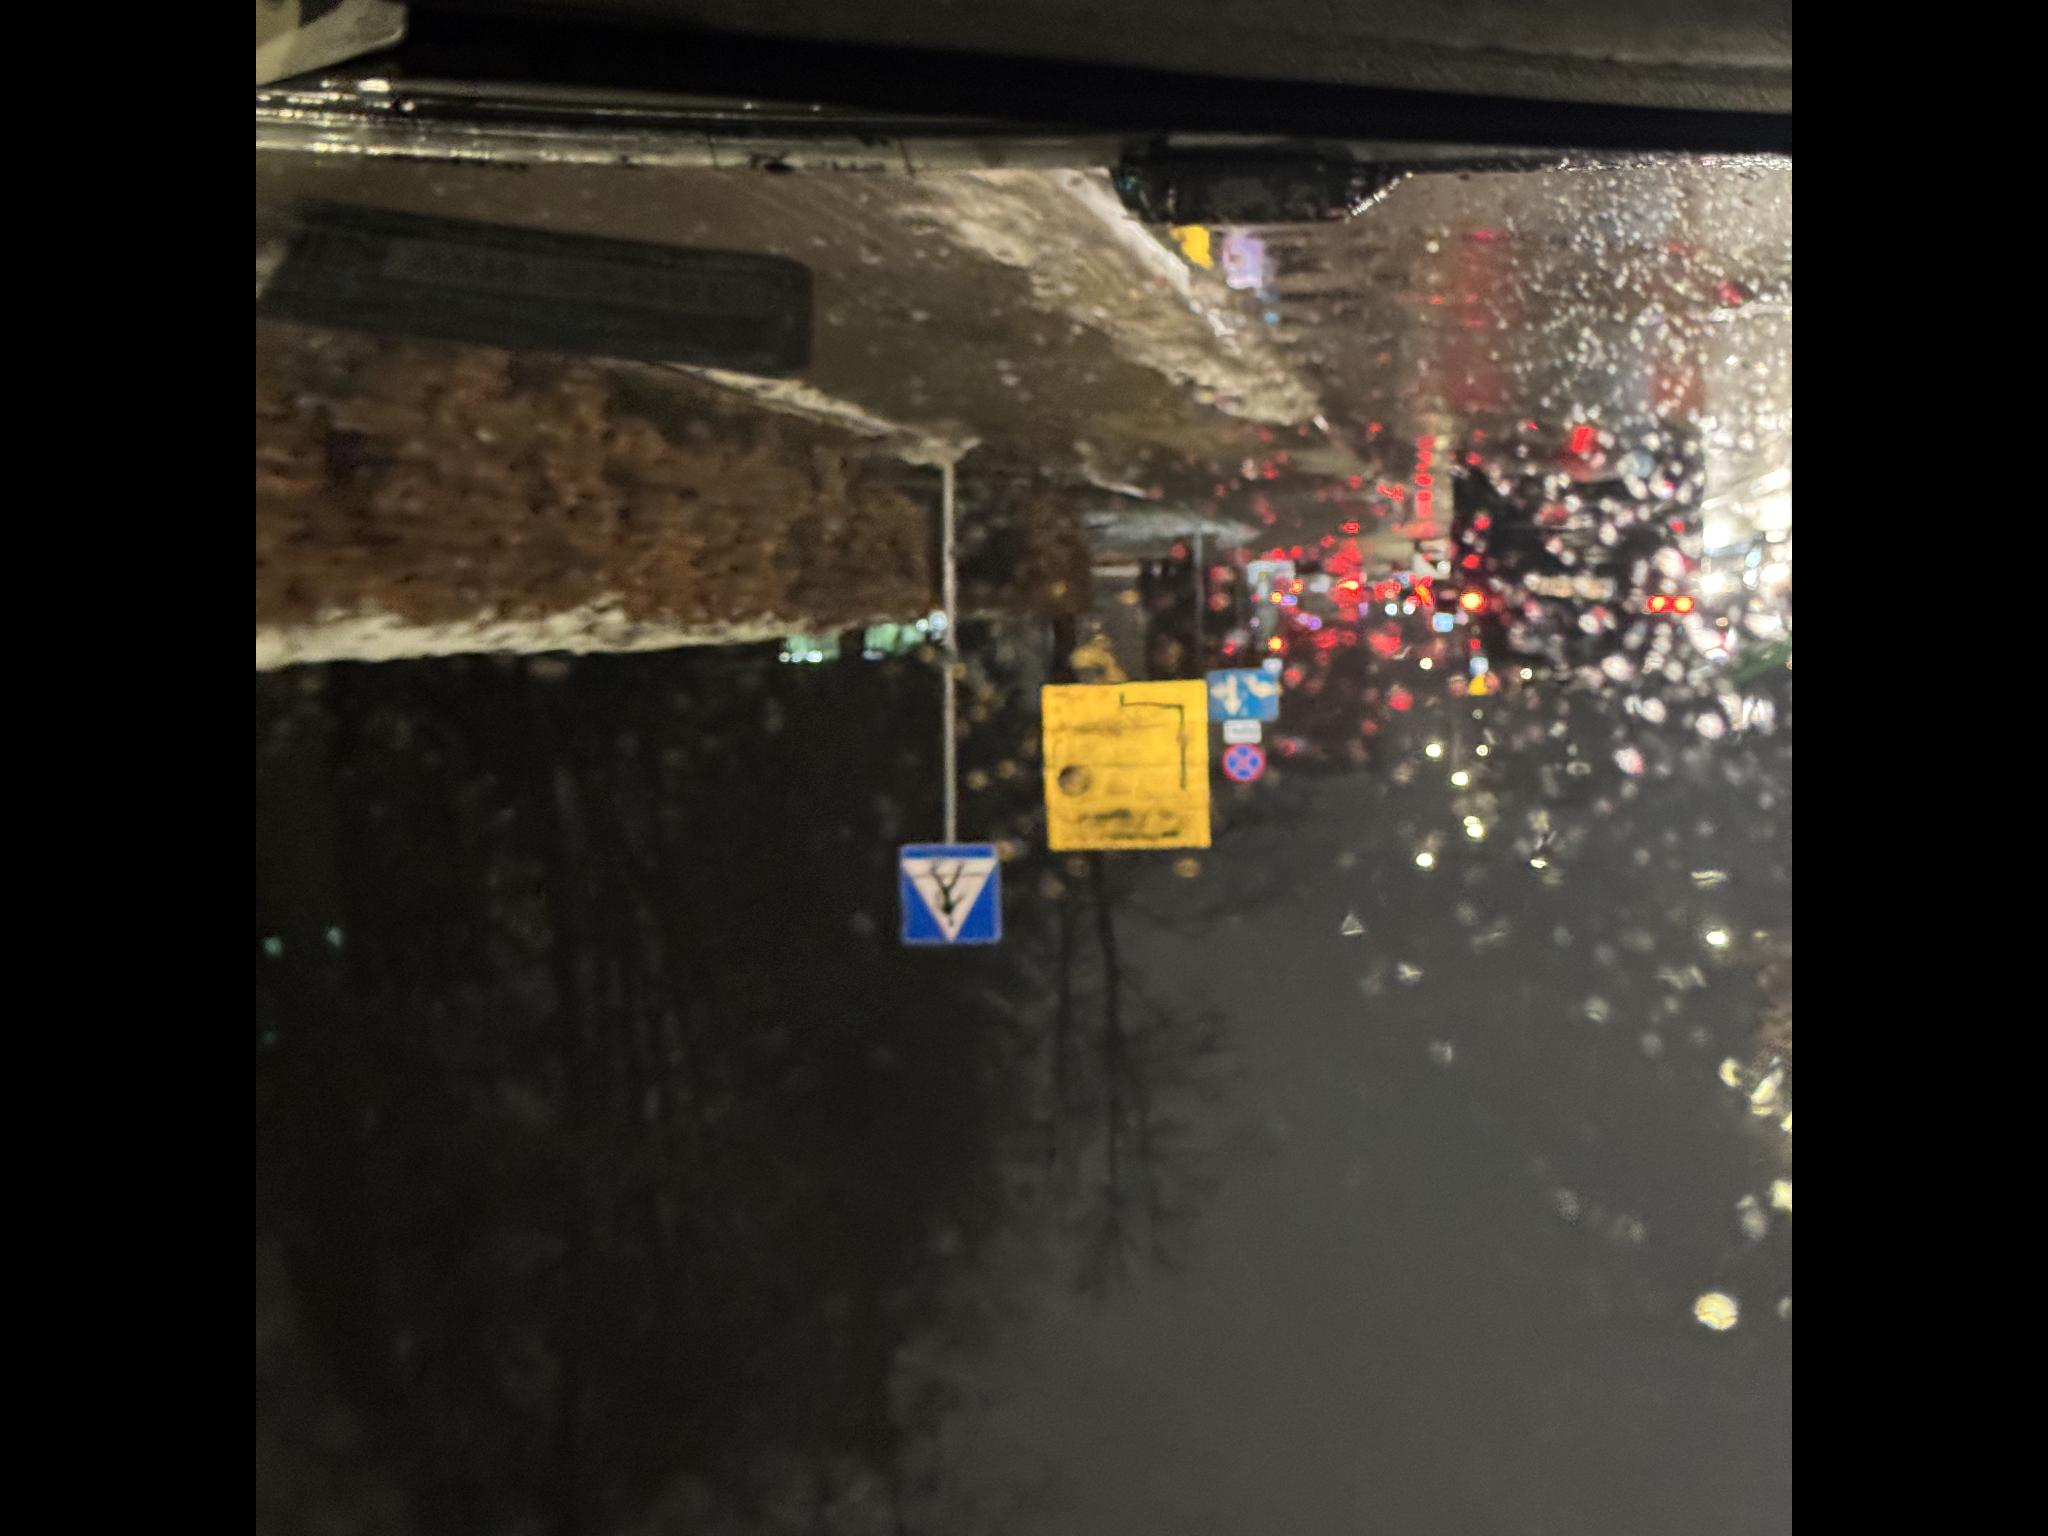information: (1105, 899, 1209, 1002)
other: (1200, 1037, 1371, 1212)
prohibitory: (1268, 1221, 1306, 1265)
